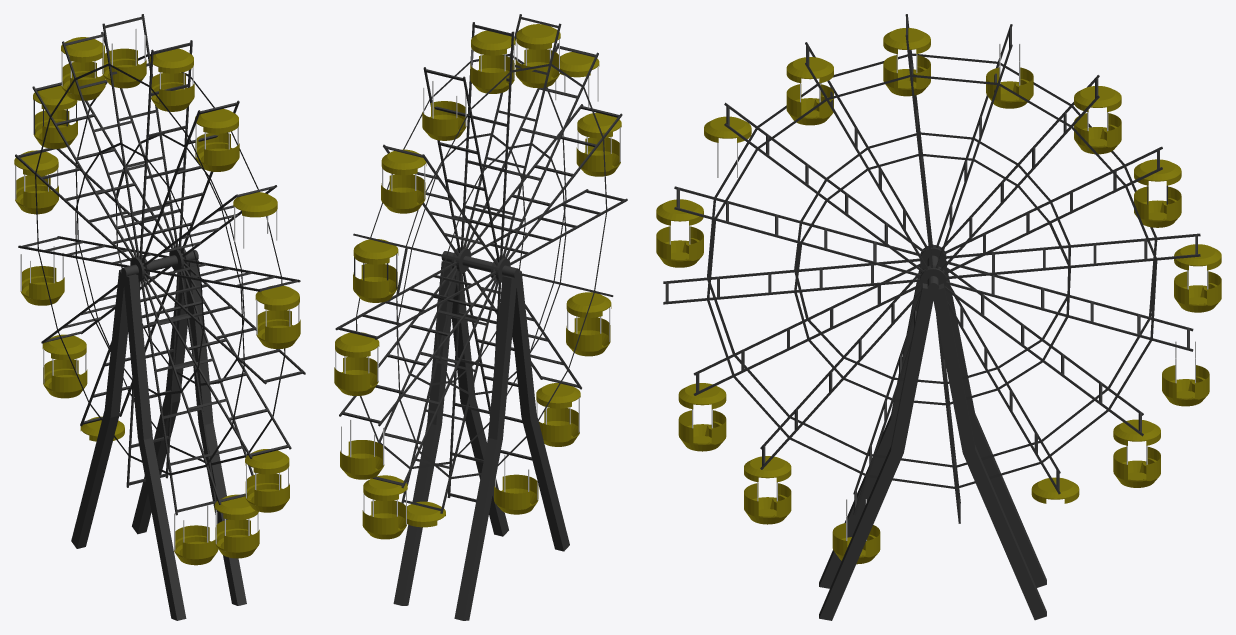
3 views of the same model, side by side, from view 1: azimuth 30°, elevation 25°; view 2: azimuth 150°, elevation 25°; view 3: azimuth 270°, elevation 25° (orthographic). The views are drawn at different scales.
Visible parts, largest first — view 1: Cylinder.002, Cylinder.003, Cube.001, Cube.002, Cube.004, Cube.003, Cylinder.066, Cylinder.049, Cylinder.090, Cylinder.061, Cylinder.097, Cylinder.073 (+18 smaller); view 2: Cylinder.002, Cylinder.003, Cube.002, Cube.001, Cube.003, Cube.004, Cylinder.073, Cylinder.019, Cylinder.012, Cylinder.061, Cylinder.007, Cylinder.097 (+18 smaller); view 3: Cylinder.002, Cylinder.003, Cube.004, Cube.003, Cube.002, Cube.001, Cylinder.049, Cylinder.007, Cylinder.066, Cylinder.090, Cylinder.097, Cylinder.061 (+17 smaller).
Boxes of the visible parts, x1,y1,x2,y2 form: Cylinder.002: [18, 14, 305, 512]; Cylinder.003: [15, 23, 266, 515]; Cube.001: [123, 274, 186, 620]; Cube.002: [71, 269, 127, 548]; Cube.004: [184, 260, 246, 605]; Cube.003: [132, 272, 188, 534]; Cylinder.066: [215, 519, 259, 558]; Cylinder.049: [256, 310, 300, 348]; Cylinder.090: [43, 359, 87, 398]; Cylinder.061: [245, 473, 289, 512]; Cylinder.097: [20, 266, 64, 305]; Cylinder.073: [174, 525, 218, 565]; Cylinder.002: [335, 14, 625, 510]; Cylinder.003: [375, 23, 627, 513]; Cube.002: [454, 276, 516, 620]; Cube.001: [512, 270, 569, 551]; Cube.003: [393, 261, 455, 605]; Cube.004: [451, 273, 508, 536]; Cylinder.073: [494, 474, 538, 514]; Cylinder.019: [381, 174, 425, 213]; Cylinder.012: [353, 264, 397, 302]; Cylinder.061: [566, 317, 610, 356]; Cylinder.007: [334, 357, 378, 395]; Cylinder.097: [340, 440, 384, 479]; Cylinder.002: [663, 17, 1200, 523]; Cylinder.003: [663, 14, 1200, 502]; Cube.004: [819, 283, 934, 620]; Cube.003: [933, 283, 1046, 620]; Cube.002: [943, 266, 1046, 587]; Cube.001: [819, 266, 922, 588]; Cylinder.049: [656, 226, 703, 267]; Cylinder.007: [1174, 271, 1221, 312]; Cylinder.066: [744, 483, 791, 524]; Cylinder.090: [1113, 446, 1160, 487]; Cylinder.097: [1162, 365, 1209, 406]; Cylinder.061: [678, 410, 726, 451].
Bounding box in the file's own units: 680 × 4840 × 4288.
